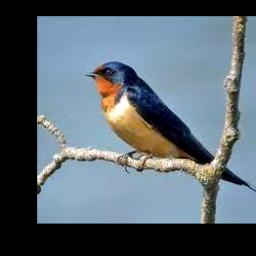Swallow: (85, 61, 256, 207)
